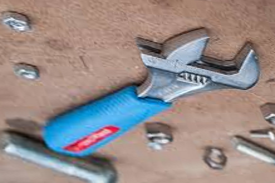Wrench: (45, 28, 264, 160)
